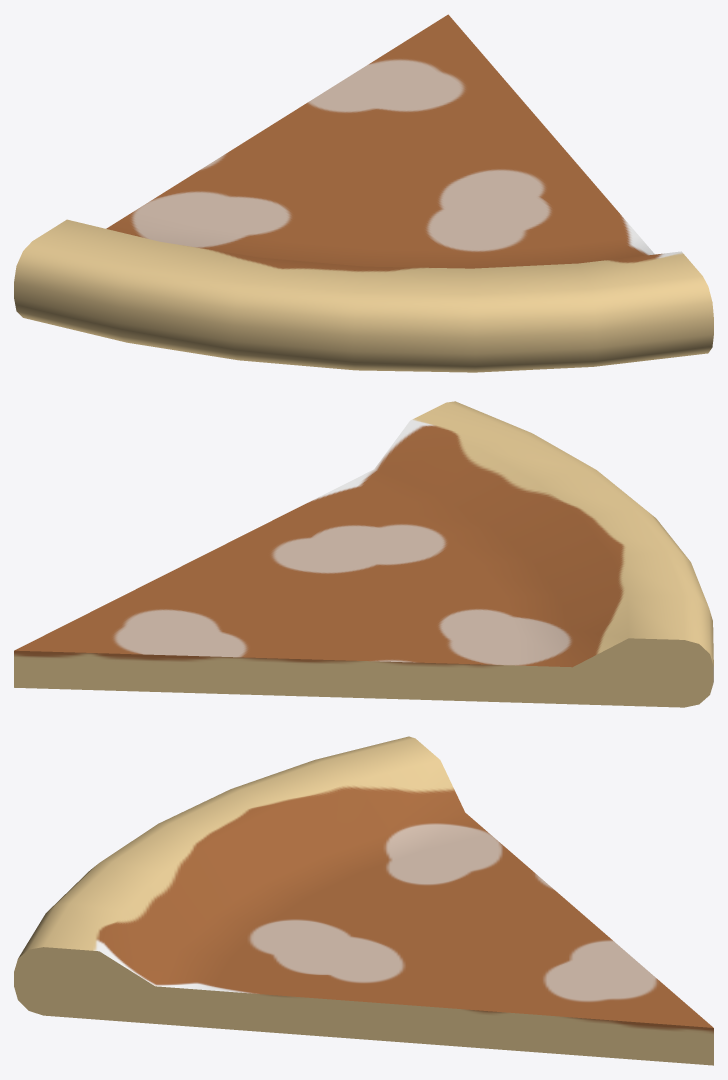
File: Finish.fbx
3 views of the same model, one above another, from view 1: azimuth 30°, elevation 25°; view 2: azimuth 150°, elevation 25°; view 3: azimuth 270°, elevation 25° (orthographic). The views are drawn at different scales.
Visible parts, largest first — view 1: pizza; view 2: pizza; view 3: pizza.
Boxes of the visible parts, <box> form: pizza: <box>14,14,713,372</box>; pizza: <box>14,401,713,707</box>; pizza: <box>14,736,713,1065</box>.
Size of the model in its own units: 427 by 50.52 by 468.
1 material, 1 textured.
